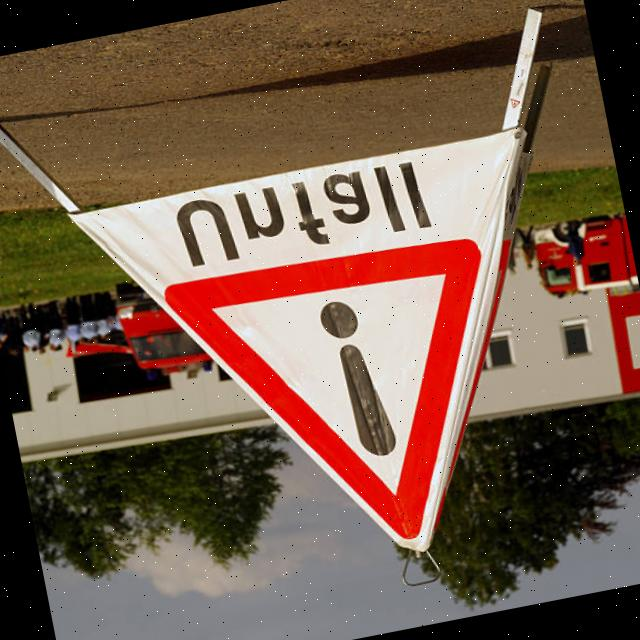warning: (154, 212, 557, 584)
